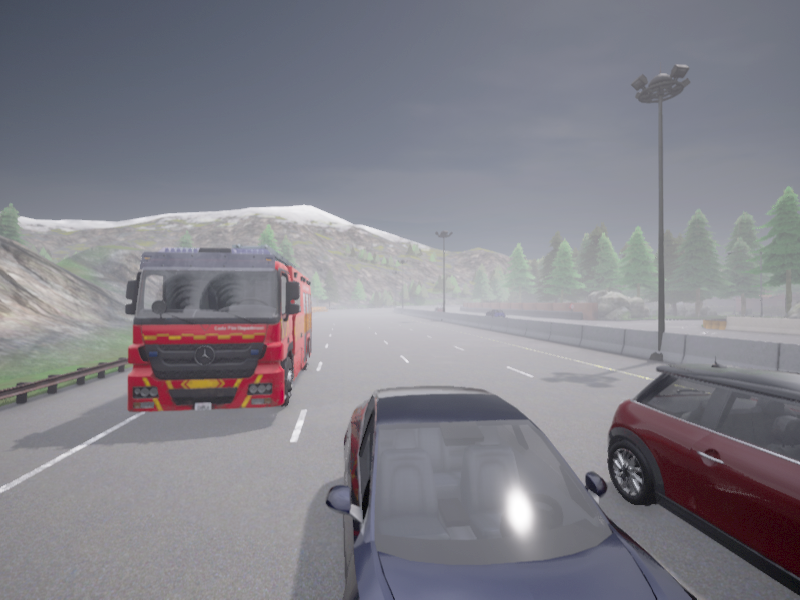vehicle: (325, 386, 697, 599), (607, 356, 799, 595), (125, 244, 311, 411), (485, 309, 504, 316), (434, 307, 442, 311)
